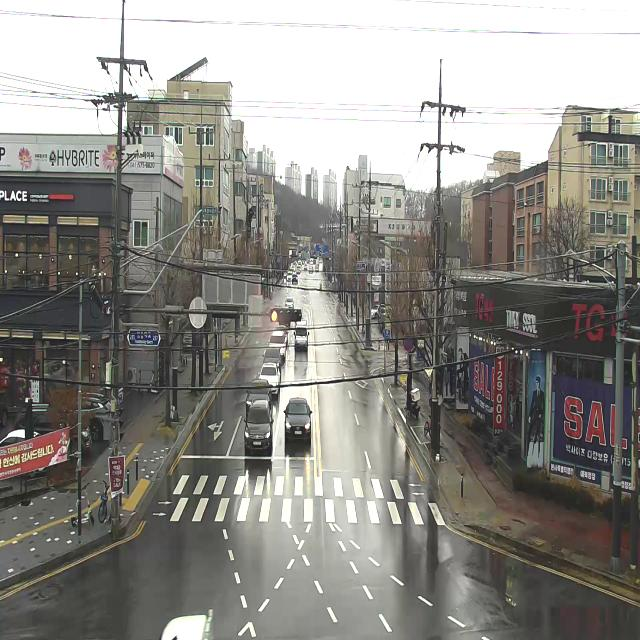Car: (12, 412, 92, 460), (0, 429, 45, 478), (74, 392, 110, 442), (244, 399, 274, 452), (283, 396, 313, 444), (246, 378, 274, 417), (258, 362, 280, 395), (262, 347, 281, 374), (268, 331, 286, 359), (274, 325, 289, 345), (372, 304, 386, 319), (183, 332, 192, 346), (285, 298, 295, 310), (292, 274, 298, 284), (287, 272, 293, 282), (296, 266, 301, 274), (308, 266, 312, 274), (315, 266, 319, 272), (304, 264, 307, 271)
Truck: (152, 605, 218, 640), (294, 318, 310, 349)
